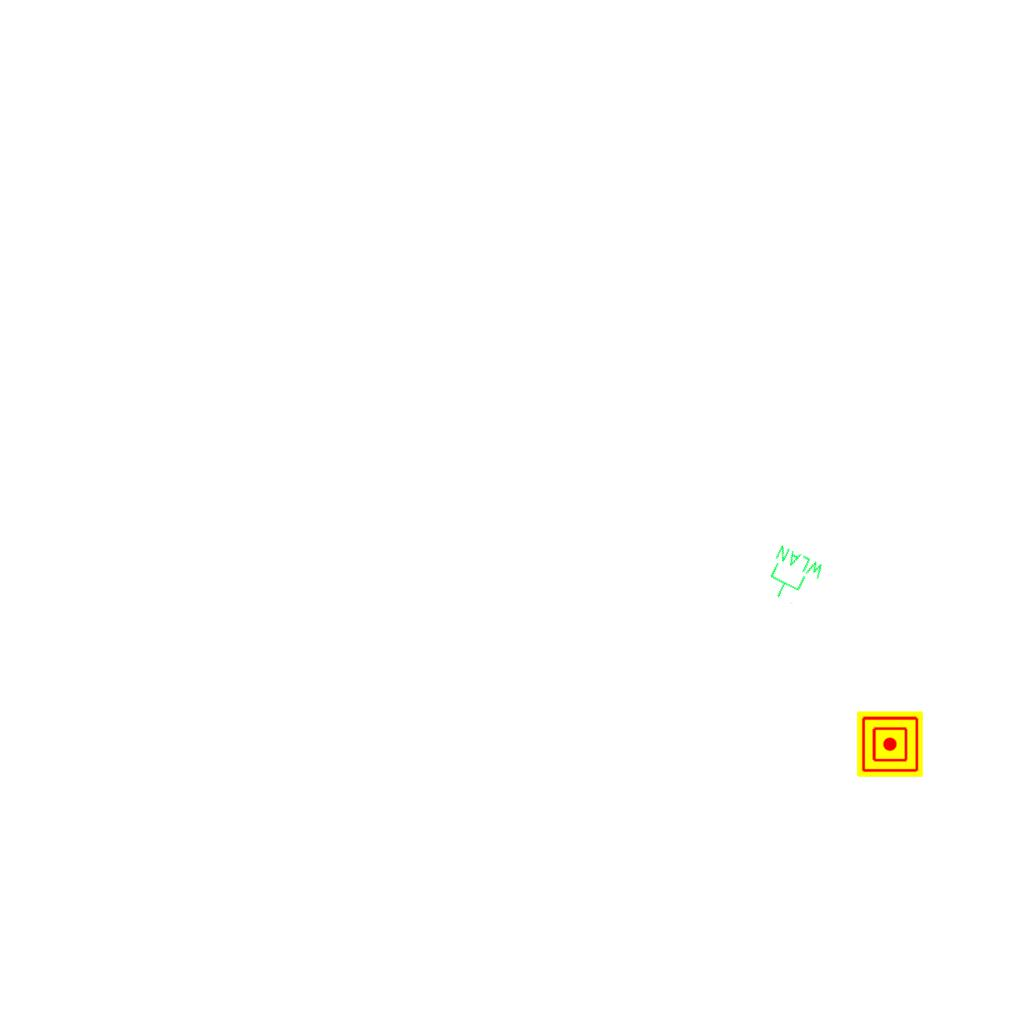NAM-Nichtautomatischer_Melder: (857, 711, 923, 777)
WLAN: (758, 542, 828, 612)
